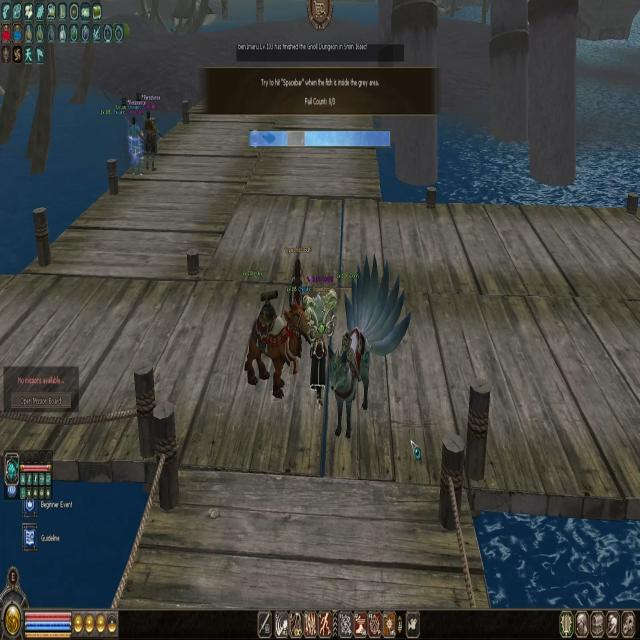box: (287, 132, 305, 148)
fishes: (261, 132, 276, 144)
